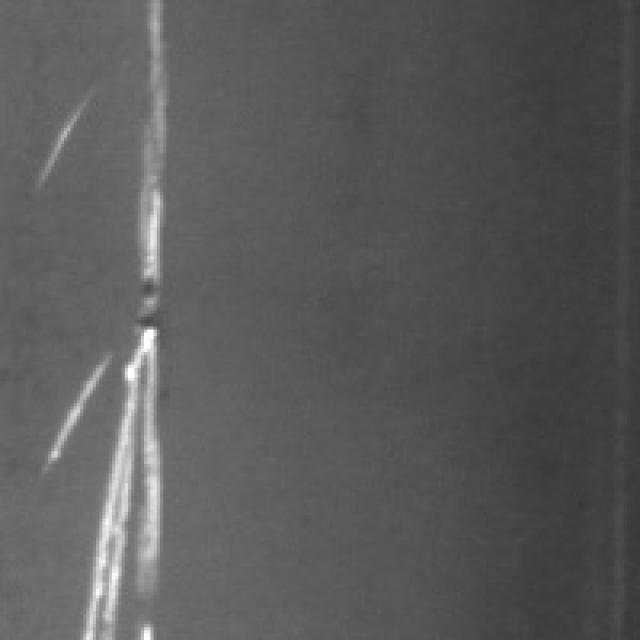scratches: (51, 0, 176, 630)
